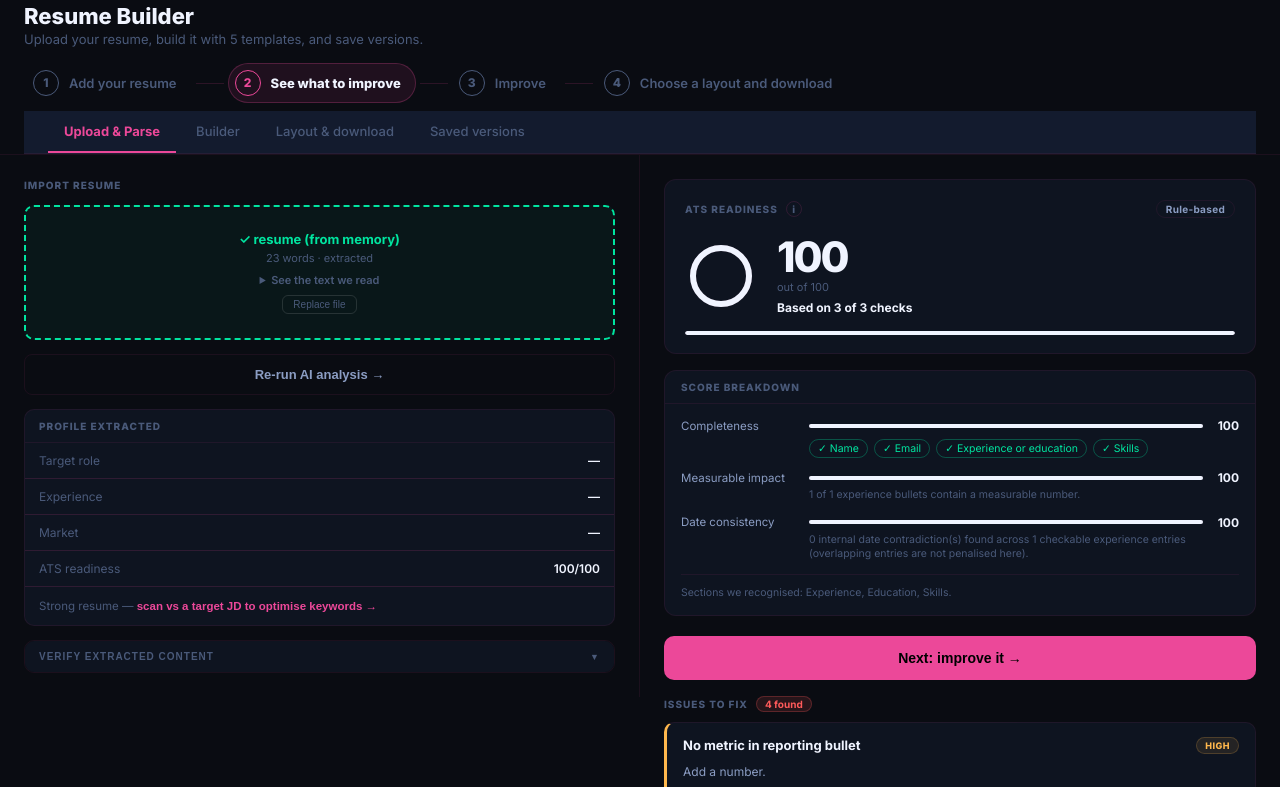
Builder suggestions, through the real component › the Apply button is not offered when the quote is not in the resume
Click the button "Builder" at (218, 132), box [180, 111, 256, 153]
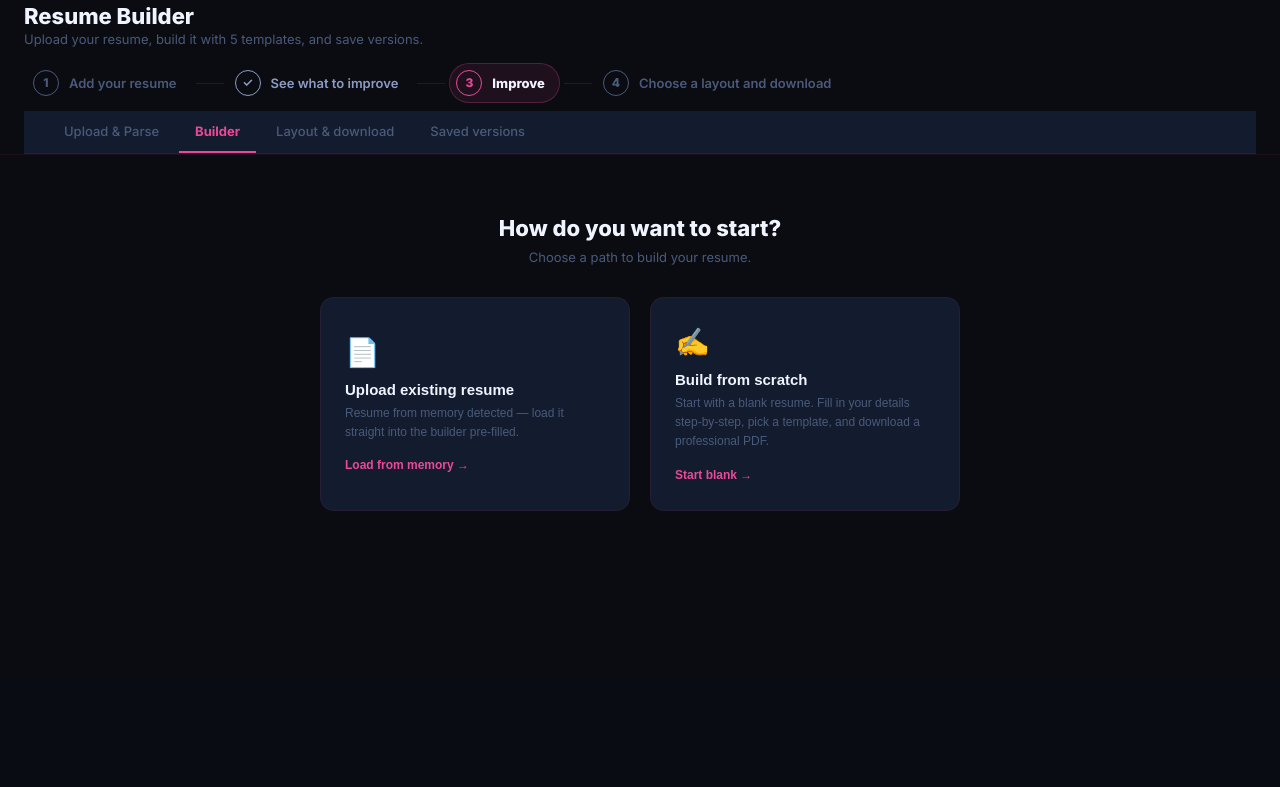
Click the text "Load from memory →" at (407, 465), box [345, 458, 469, 472]
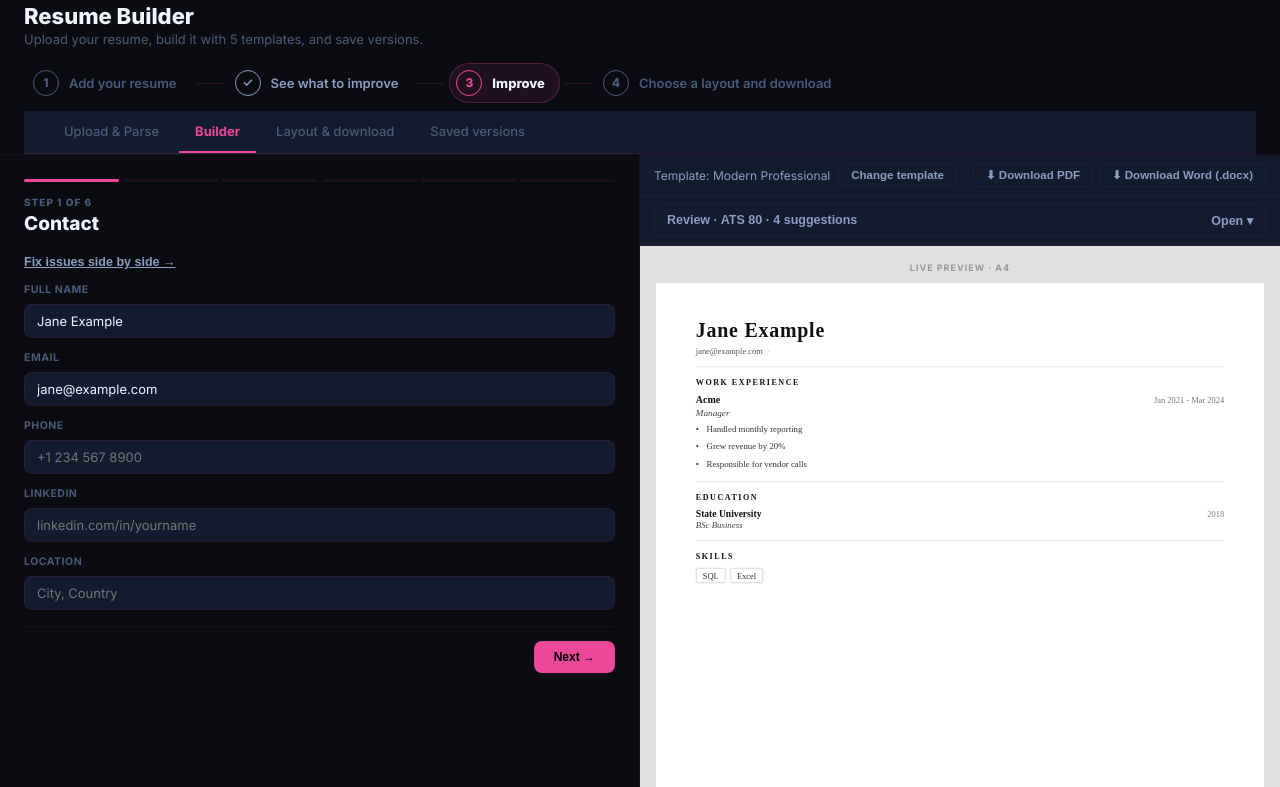
Click the button "Review · ATS 80 · 4 suggestions Open ▾" at (762, 220), box [654, 204, 1266, 237]
(page scrolled)
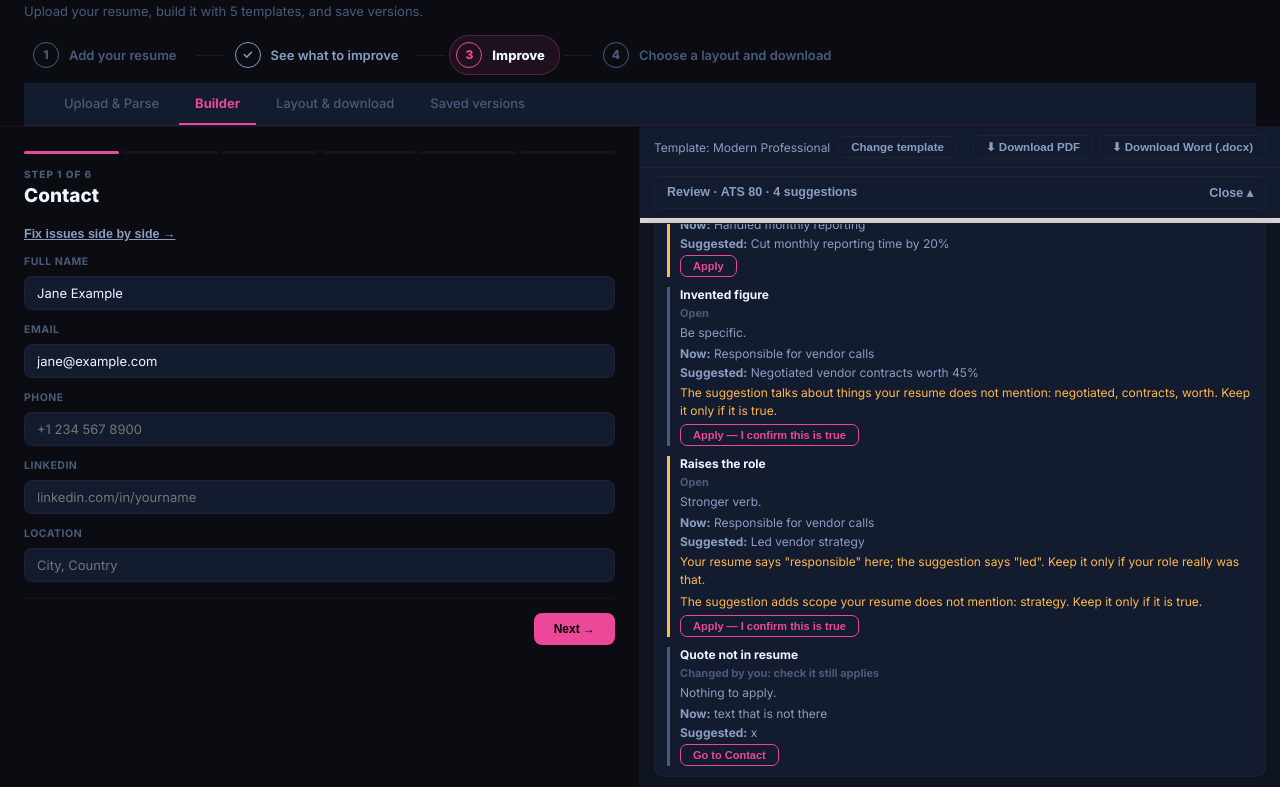
Result: the button "Go to Contact" is shown at [680, 744, 779, 766]
